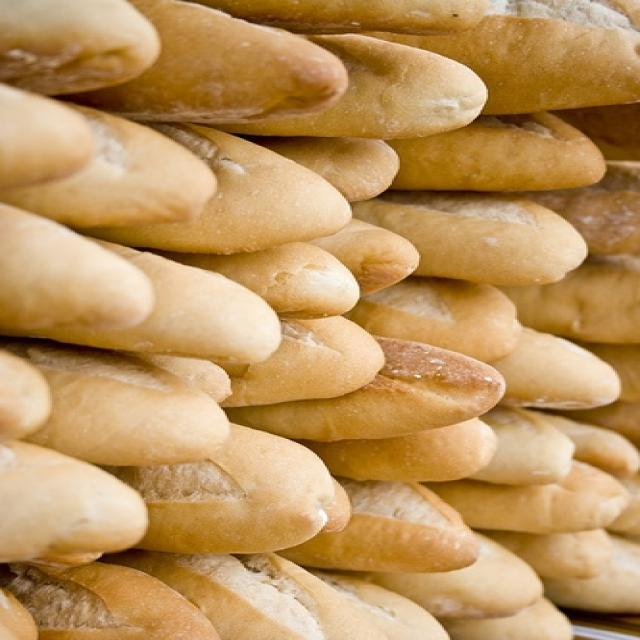面包点心: (3, 3, 624, 613)
